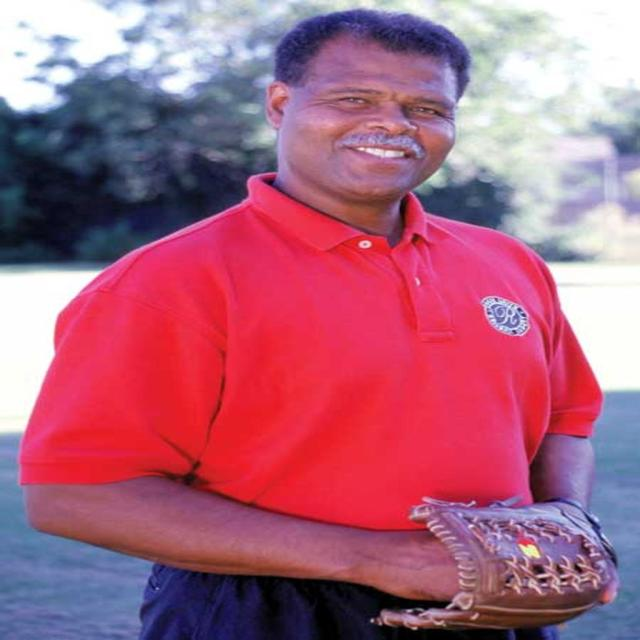Face: (285, 43, 459, 209)
